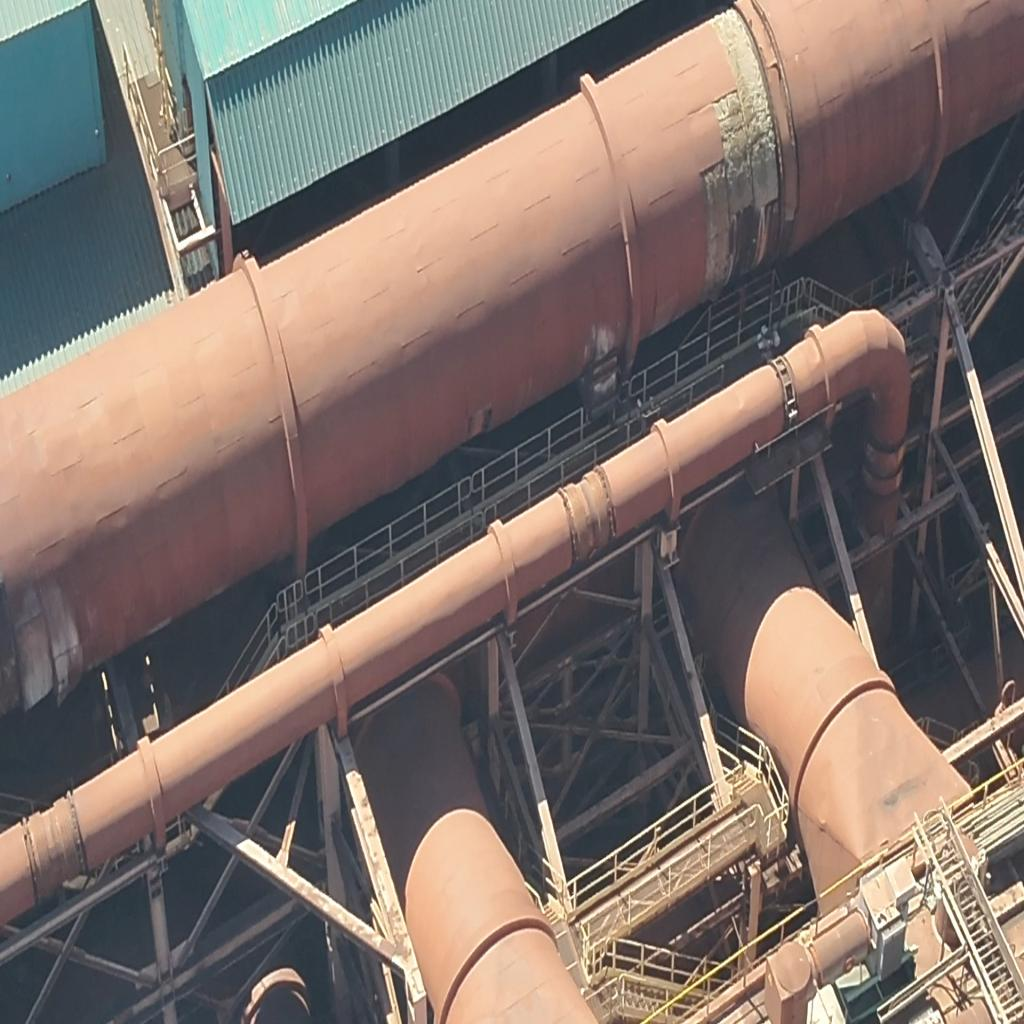Failures: (709, 2, 777, 288), (0, 582, 84, 706), (579, 322, 615, 371), (468, 402, 494, 439)
